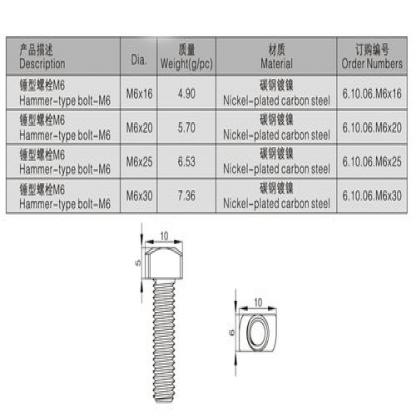FOD: (145, 242, 184, 404)
